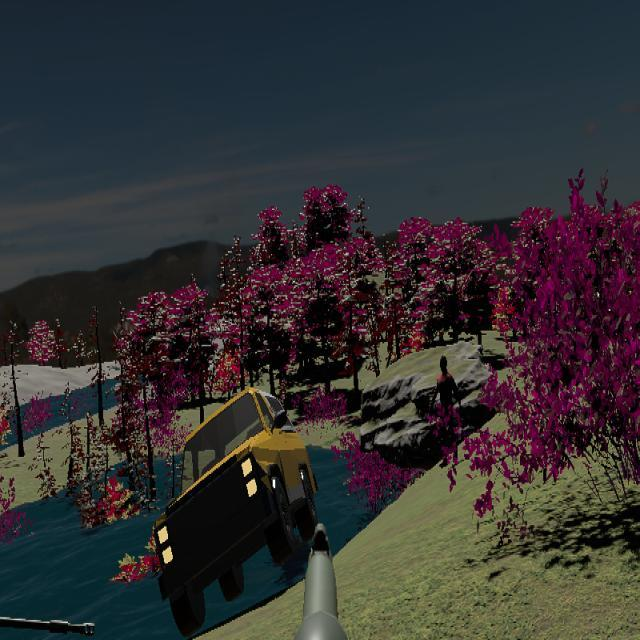Tank: (0, 595, 98, 640)
car: (154, 385, 320, 635)
